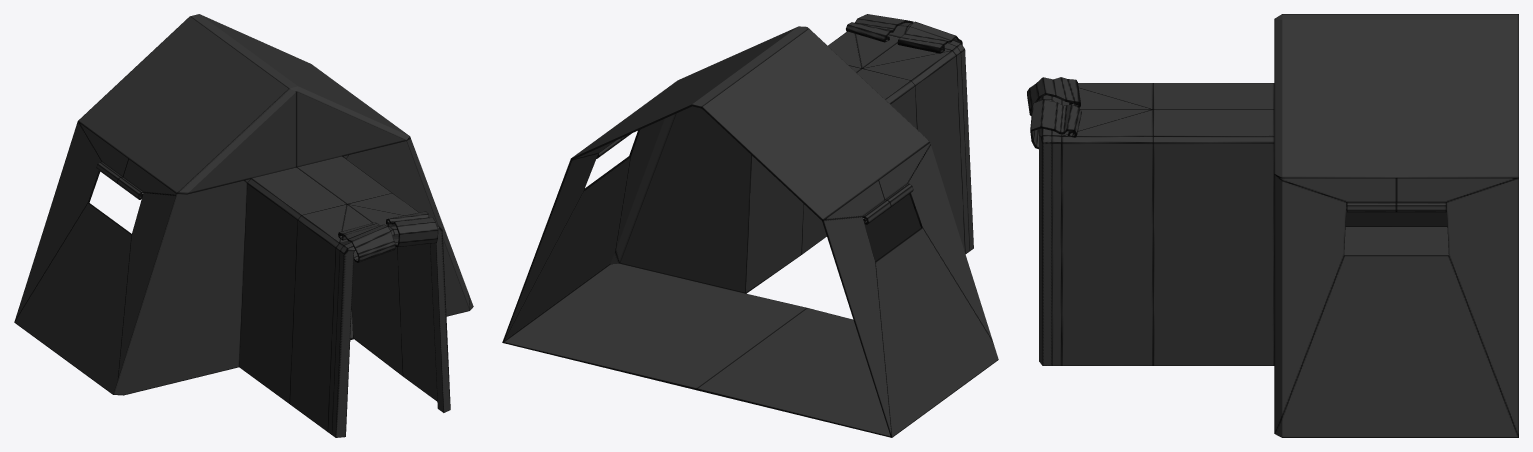
Rendered from BarracksEnd.fbx.
3 views of the same model, side by side, from view 1: azimuth 30°, elevation 25°; view 2: azimuth 150°, elevation 25°; view 3: azimuth 270°, elevation 25° (orthographic). The views are drawn at different scales.
Parts seen in each view (by area): view 1: BarracksEnd; view 2: BarracksEnd; view 3: BarracksEnd.
Boxes of the visible parts, x1=… form: BarracksEnd: x1=14, y1=14, x2=473, y2=437; BarracksEnd: x1=502, y1=14, x2=998, y2=437; BarracksEnd: x1=1027, y1=14, x2=1518, y2=437.
Bounding box in the file's own units: 1142 × 797 × 1125.
